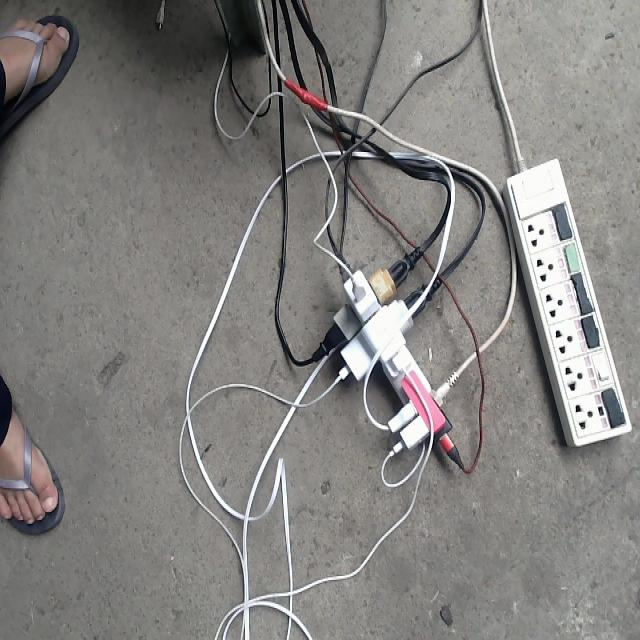-: (297, 244, 467, 488)
